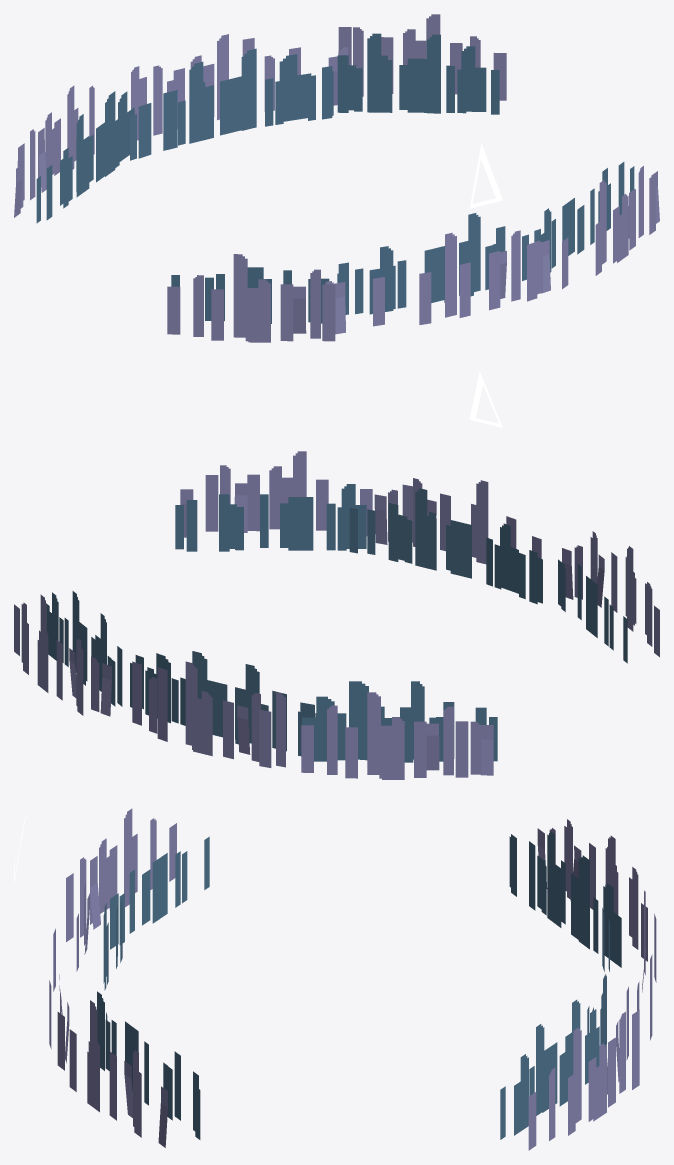
The model's file is MetaScreen_buildingtest1.glb.
The picture shows the model from 3 angles, top to bottom: view 1: azimuth 30°, elevation 25°; view 2: azimuth 150°, elevation 25°; view 3: azimuth 270°, elevation 25°; orthographic projection. The views are drawn at different scales.
Parts seen in each view (by area): view 1: Plane.003; view 2: Plane.003; view 3: Plane.003.
Boxes of the visible parts, x1,y1,x2,y2 form: Plane.003: (14,14,659,342); Plane.003: (14,371,659,779); Plane.003: (14,808,656,1150).
Size of the model in its own units: 258 by 90.71 by 258.
